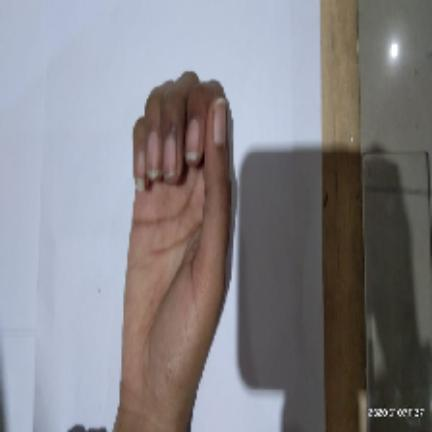Nail: (214, 97, 227, 146), (187, 121, 200, 165), (163, 135, 176, 178), (133, 150, 146, 193), (147, 135, 159, 178)
